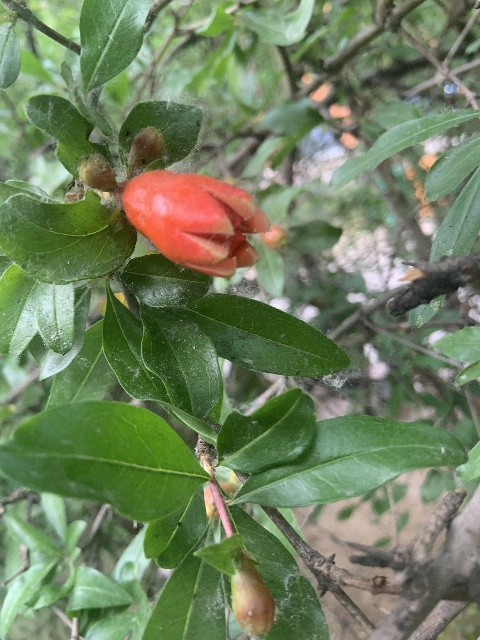bud: (229, 559, 274, 635), (127, 126, 164, 168), (79, 159, 115, 190), (263, 225, 287, 249)
flower: (120, 169, 272, 278)
